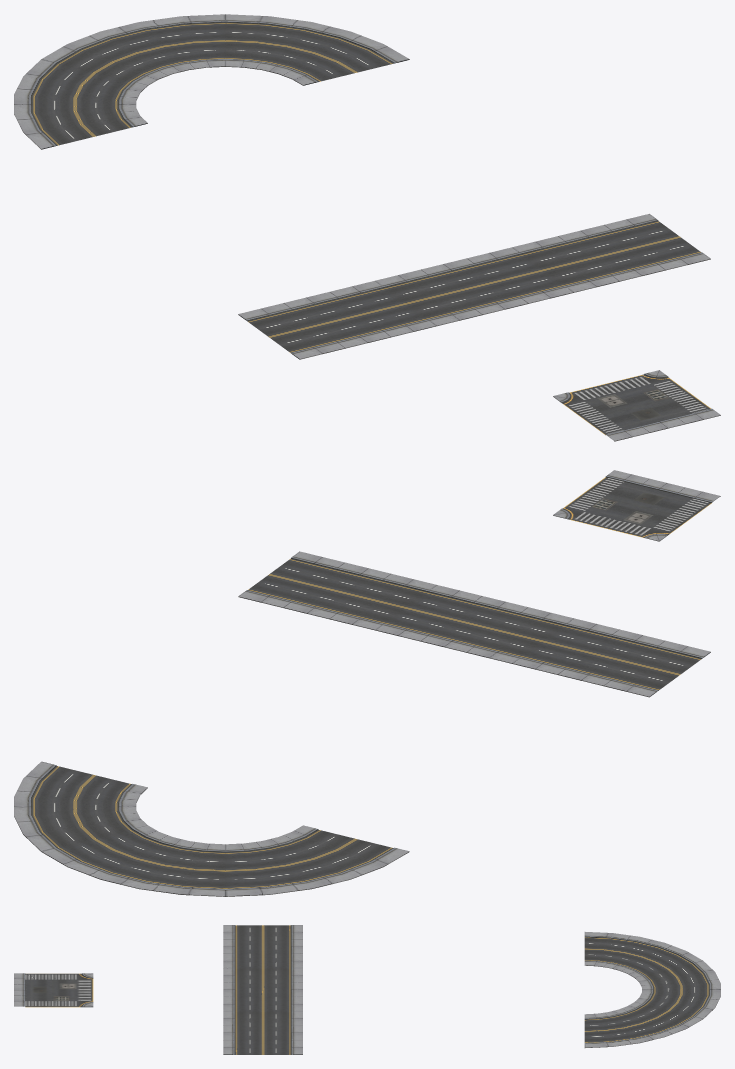
3 renders of one model, top to bottom at view 1: azimuth 30°, elevation 25°; view 2: azimuth 150°, elevation 25°; view 3: azimuth 270°, elevation 25°, orthographic. The views are drawn at different scales.
Visible parts, largest first — view 1: Road_1X_Straight, Road_1X_HalfCircle, Road_T_Intersection; view 2: Road_1X_Straight, Road_1X_HalfCircle, Road_T_Intersection; view 3: Road_1X_HalfCircle, Road_1X_Straight, Road_T_Intersection.
Part boxes in pixels (bbox=[...]): Road_1X_Straight: bbox=[238, 214, 710, 359]; Road_1X_HalfCircle: bbox=[14, 14, 409, 149]; Road_T_Intersection: bbox=[553, 370, 720, 441]; Road_1X_Straight: bbox=[238, 551, 710, 697]; Road_1X_HalfCircle: bbox=[14, 761, 409, 896]; Road_T_Intersection: bbox=[553, 470, 720, 541]; Road_1X_HalfCircle: bbox=[584, 932, 720, 1047]; Road_1X_Straight: bbox=[223, 925, 302, 1054]; Road_T_Intersection: bbox=[14, 973, 93, 1007].
Size of the model in its own units: 146 by 0.3067 by 338.
2 materials, 2 textured.
